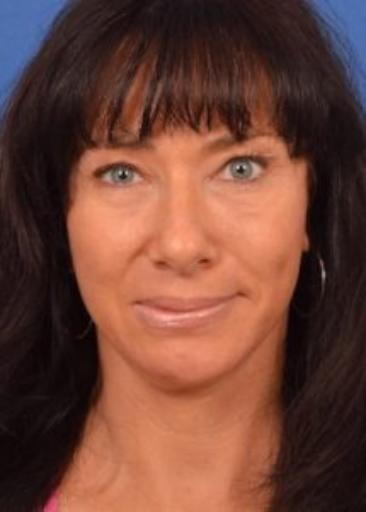left_eye: (212, 151, 278, 183)
left_lip_corner: (228, 288, 248, 302)
right_eye: (97, 163, 150, 186)
right_lip_corner: (126, 297, 149, 311)
